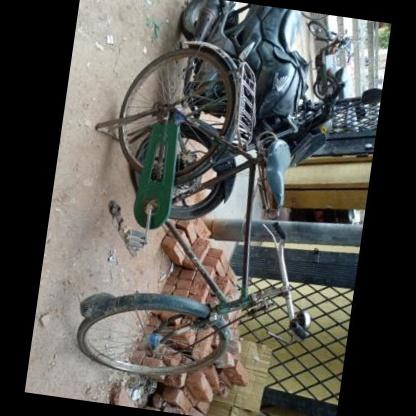Bicycle: (83, 26, 351, 396)
